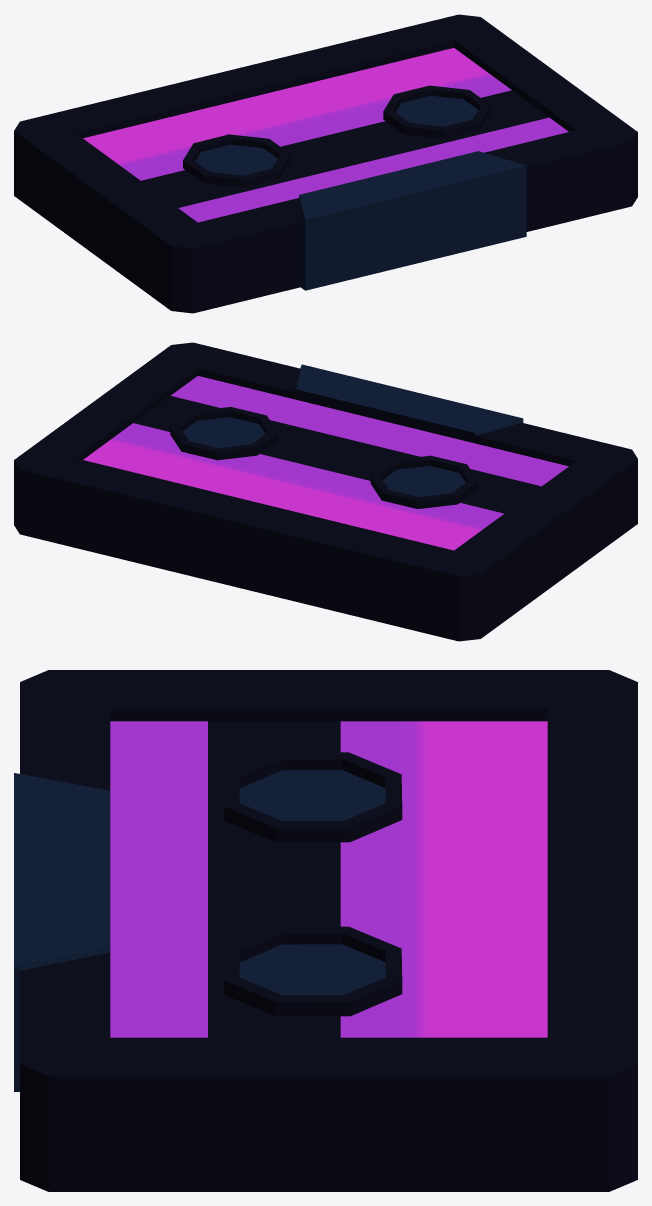
The model's file is Trash_Cassette_Pink.fbx.
3 views of the same model, one above another, from view 1: azimuth 30°, elevation 25°; view 2: azimuth 150°, elevation 25°; view 3: azimuth 270°, elevation 25° (orthographic). The views are drawn at different scales.
Visible parts, largest first — view 1: Cube.149; view 2: Cube.149; view 3: Cube.149.
Boxes of the visible parts, x1,y1,x2,y2 form: Cube.149: (14,14,637,313); Cube.149: (14,342,637,641); Cube.149: (14,670,637,1191).
Bounding box in the file's own units: 16.38 × 2.38 × 10.64.
